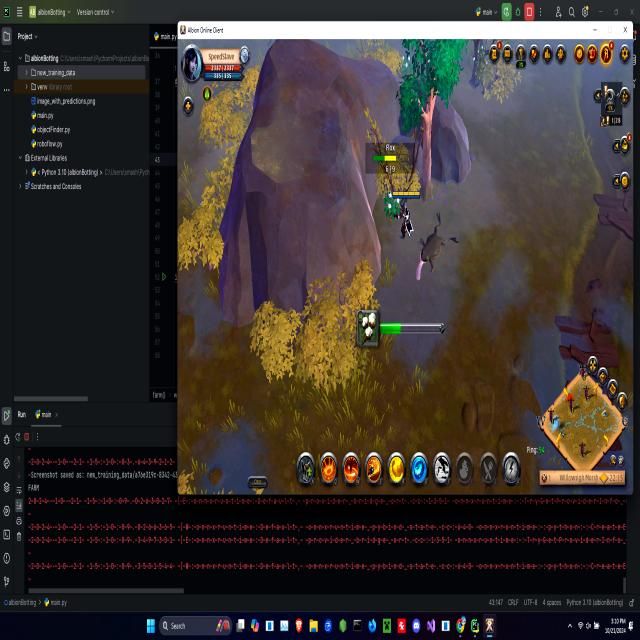hide: (381, 180, 401, 224), (398, 49, 414, 78)
red: (392, 182, 422, 246)
wisp caged: (398, 39, 468, 212)
